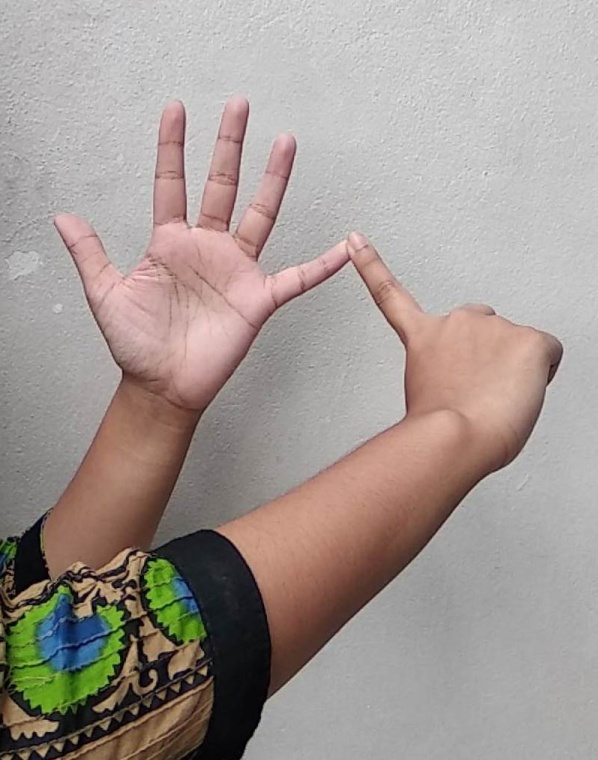i: (59, 100, 445, 423)
